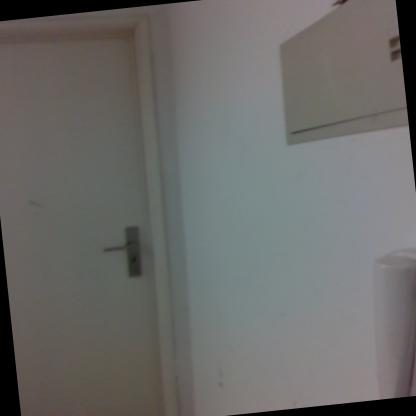closed: (0, 13, 202, 415)
